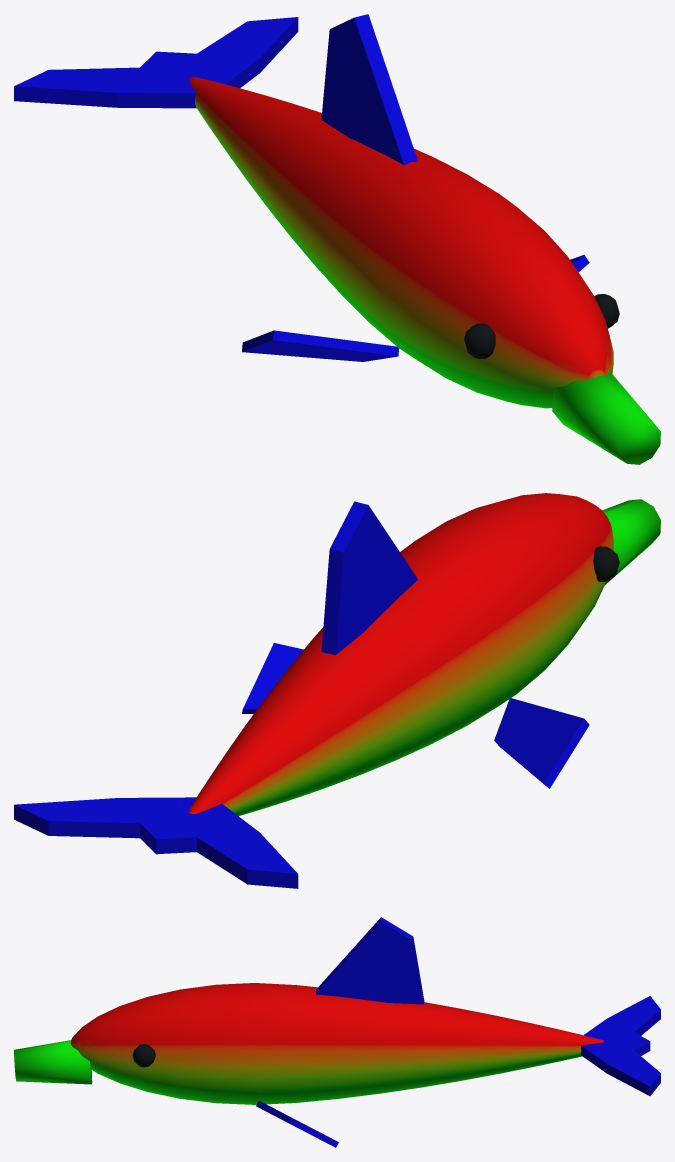
The model's file is fish_dolphin.glb.
3 renders of one model, top to bottom at view 1: azimuth 30°, elevation 25°; view 2: azimuth 150°, elevation 25°; view 3: azimuth 270°, elevation 25°, orthographic. The views are drawn at different scales.
Visible parts, largest first — view 1: Body, Eye; view 2: Body, Eye; view 3: Body, Eye.
Part boxes in pixels (left/top/right/bottom): Body: left=14, top=14, right=660, bottom=464; Eye: left=464, top=294, right=619, bottom=358; Body: left=14, top=493, right=660, bottom=888; Eye: left=593, top=546, right=619, bottom=581; Body: left=14, top=917, right=660, bottom=1147; Eye: left=132, top=1044, right=155, bottom=1067.
Size of the model in its own units: 0.4456 by 0.3741 by 1.2.
